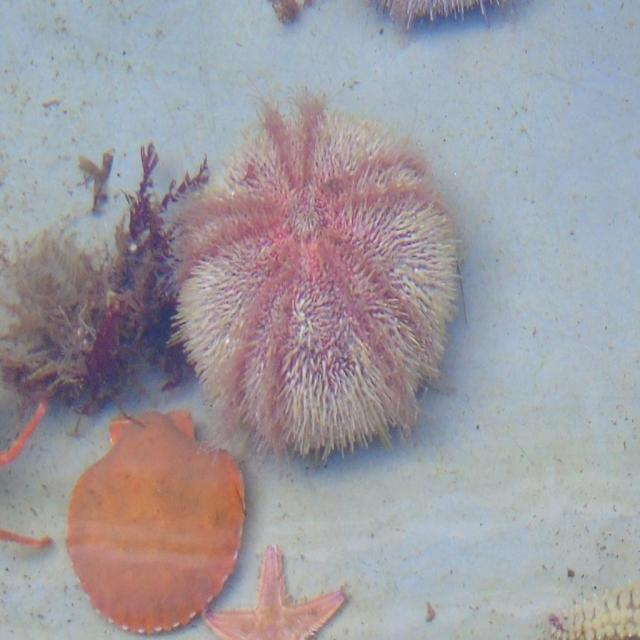Deniz Kestanesi: (170, 84, 463, 461)
